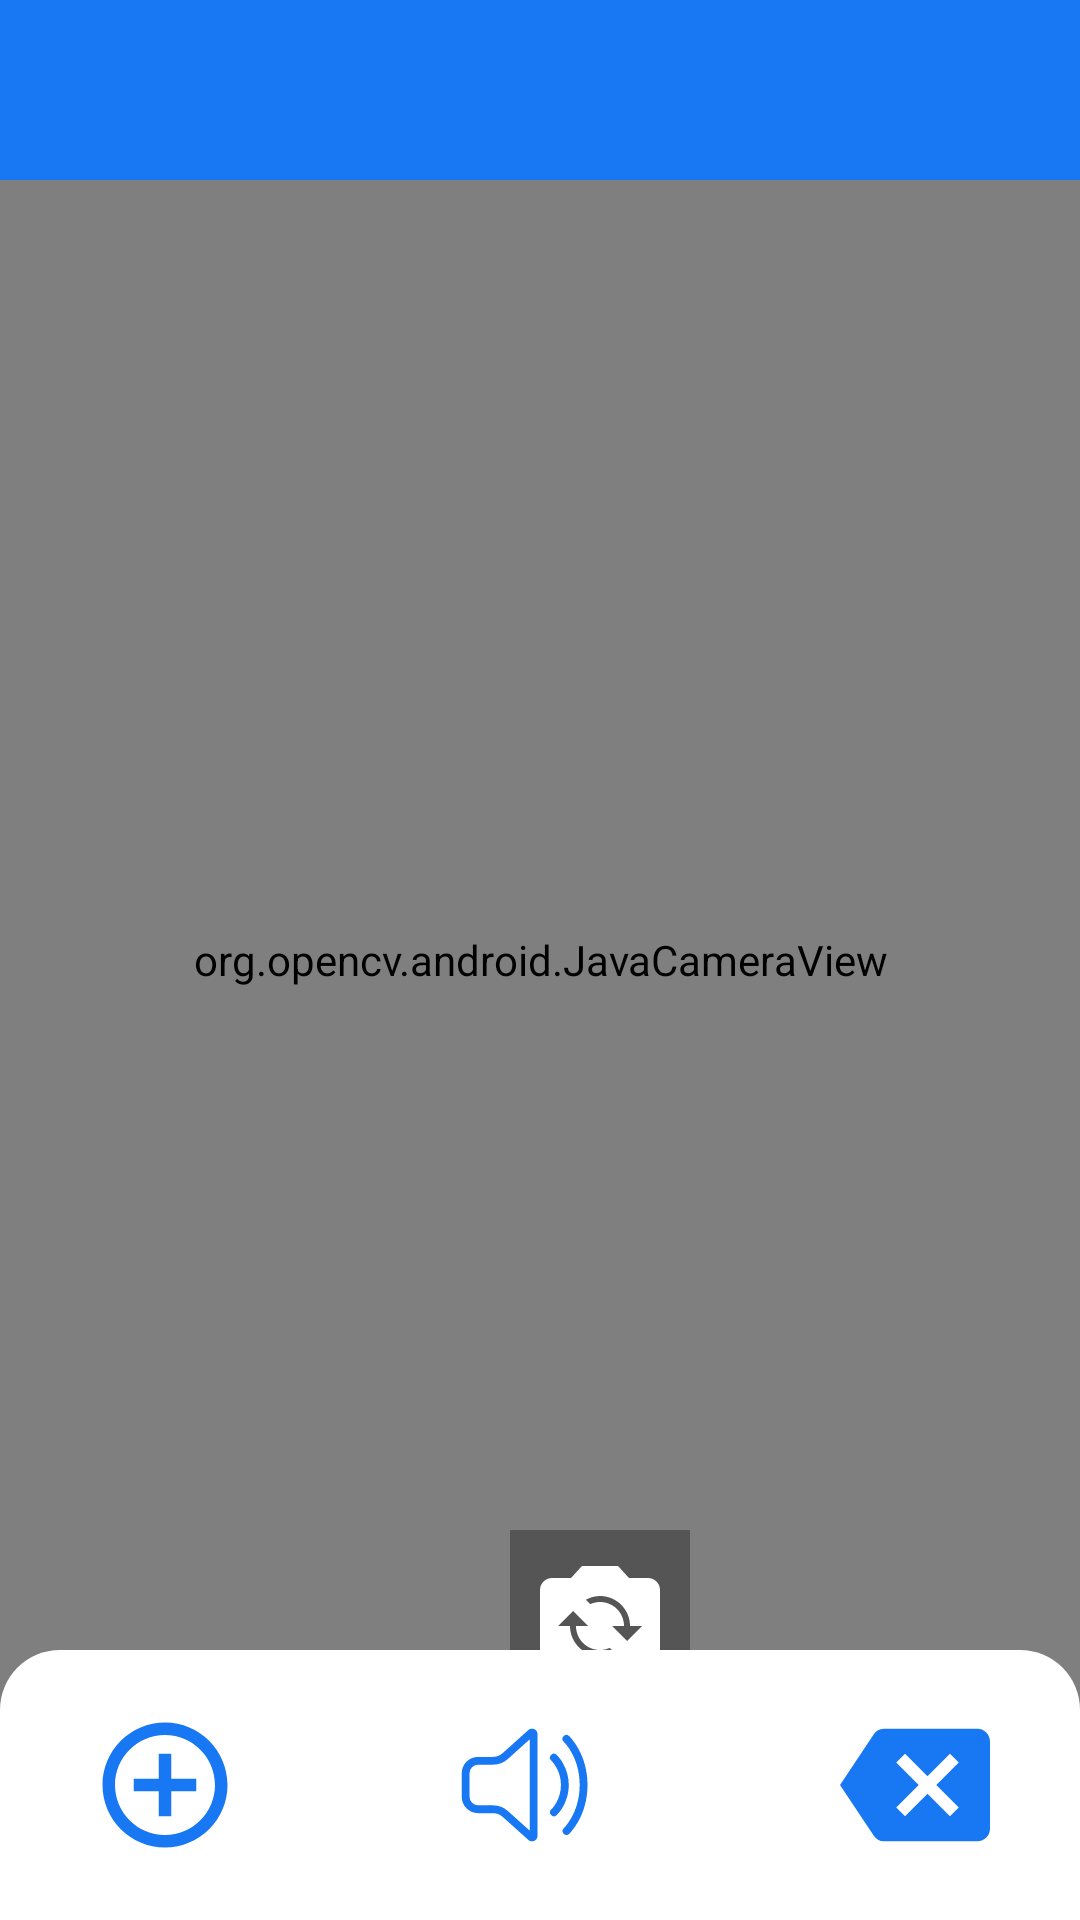

Named icons in this screenshot (1080w x 1920h) and their bounding boxes, (x1, y1, x2, y2):
add circle: (102, 1722, 228, 1848)
backspace: (840, 1728, 990, 1842)
speaker: (461, 1728, 588, 1842)
